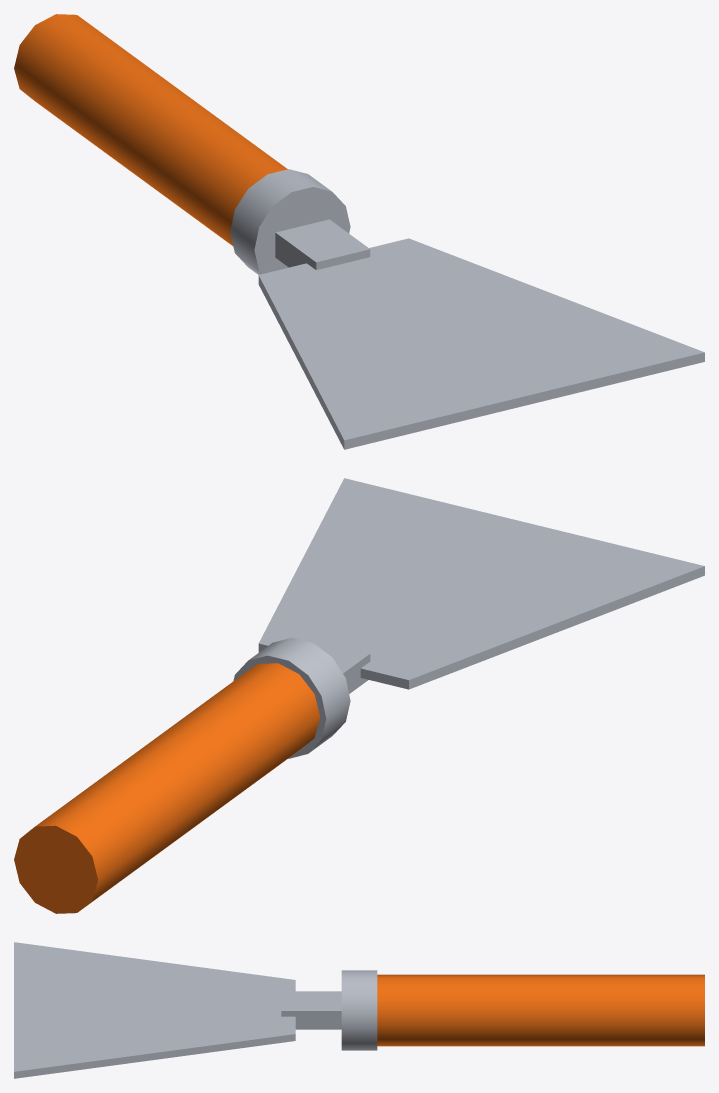
The model's file is Spatula.obj.
3 renders of one model, top to bottom at view 1: azimuth 30°, elevation 25°; view 2: azimuth 150°, elevation 25°; view 3: azimuth 270°, elevation 25°, orthographic. The views are drawn at different scales.
Parts seen in each view (by area): view 1: Blade, Handle, Neck; view 2: Blade, Handle, Neck; view 3: Blade, Handle, Neck.
Part boxes in pixels (bbox=[...]): Blade: bbox=[258, 238, 704, 449]; Handle: bbox=[14, 14, 287, 245]; Neck: bbox=[230, 169, 370, 274]; Blade: bbox=[258, 478, 704, 689]; Handle: bbox=[14, 663, 320, 913]; Neck: bbox=[233, 638, 370, 758]; Blade: bbox=[14, 942, 295, 1078]; Handle: bbox=[377, 974, 704, 1046]; Neck: bbox=[281, 970, 377, 1050].
Size of the model in its own units: 0.12 by 0.0312 by 0.27.
